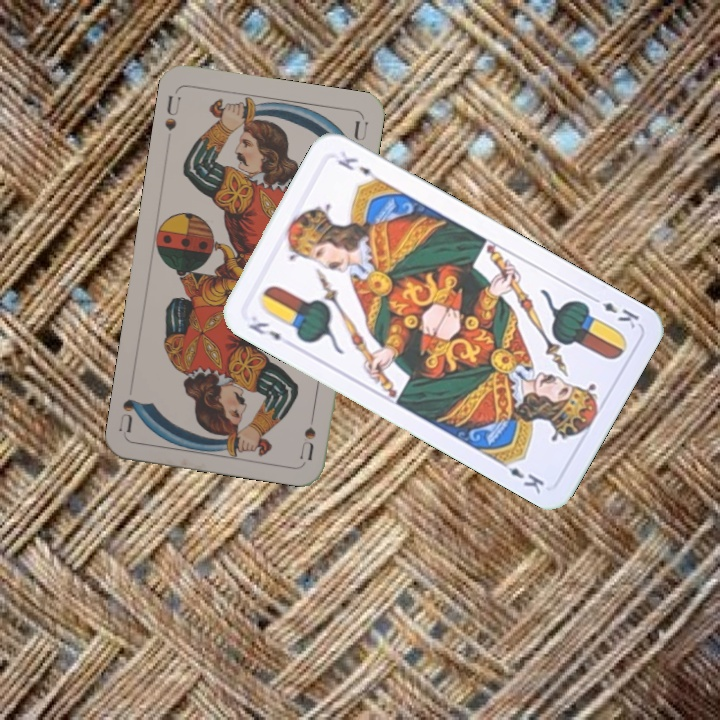EK: (586, 291, 642, 331), (244, 317, 284, 343)
SU: (297, 402, 319, 462), (160, 88, 184, 133)
